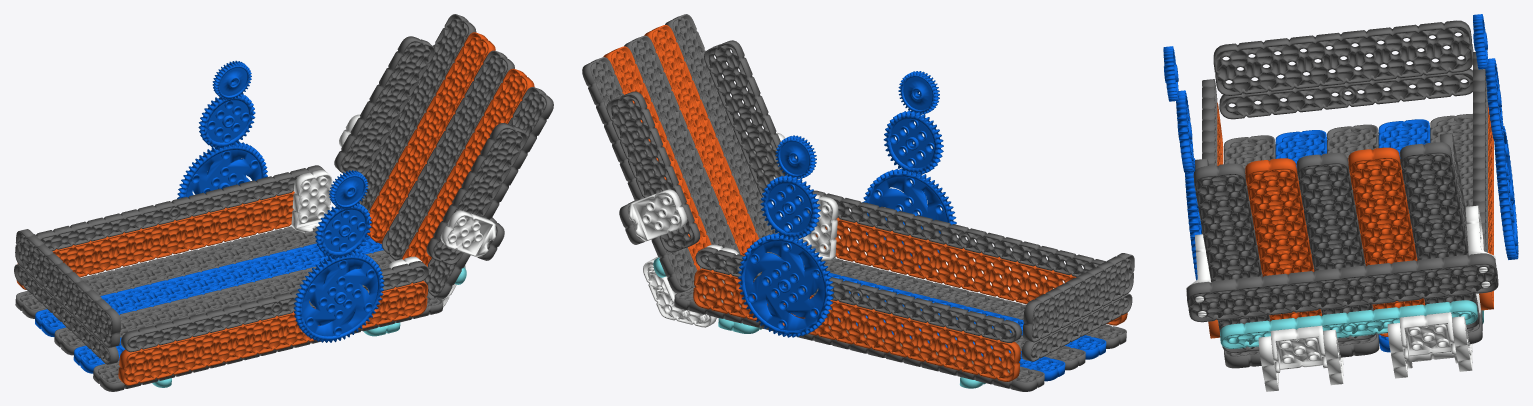
File: Tray V1.glb
3 views of the same model, side by side, from view 1: azimuth 30°, elevation 25°; view 2: azimuth 150°, elevation 25°; view 3: azimuth 270°, elevation 25° (orthographic). The views are drawn at different scales.
Parts seen in each view (by area): view 1: 00033_228-2500-029.dat, 00028_228-2500-029.dat, 00003_228-2500-026.dat, 00034_228-2500-215.dat, 00002_228-2500-026.dat, 00018_228-2500-030.dat, 00029_228-2500-015.dat, 00022_228-2500-030.dat, 00007_228-2500-023.dat, 00030_228-2500-015.dat, 00023_228-2500-030.dat, 00031_228-2500-025.dat (+14 smaller); view 2: 00028_228-2500-029.dat, 00033_228-2500-029.dat, 00037_228-2500-215.dat, 00030_228-2500-015.dat, 00004_228-2500-026.dat, 00008_228-2500-023.dat, 00029_228-2500-015.dat, 00003_228-2500-026.dat, 00007_228-2500-023.dat, 00031_228-2500-025.dat, 00005_228-2500-026.dat, 00025_228-2500-030.dat (+15 smaller); view 3: 00031_228-2500-025.dat, 00006_228-2500-026.dat, 00005_228-2500-026.dat, 00003_228-2500-026.dat, 00001_228-2500-026.dat, 00002_228-2500-026.dat, 00004_228-2500-026.dat, 00032_228-2500-009-v2.dat, 00011_228-2500-009-v2.dat, 00029_228-2500-015.dat, 00022_228-2500-030.dat, 00013_228-2500-220-v2.dat (+22 smaller).
Boxes of the visible parts, bbox=[...] form: 00033_228-2500-029.dat: bbox=[118, 280, 428, 385]; 00028_228-2500-029.dat: bbox=[16, 191, 294, 289]; 00003_228-2500-026.dat: bbox=[382, 50, 514, 260]; 00034_228-2500-215.dat: bbox=[293, 251, 384, 342]; 00002_228-2500-026.dat: bbox=[367, 32, 495, 243]; 00018_228-2500-030.dat: bbox=[35, 236, 383, 337]; 00029_228-2500-015.dat: bbox=[34, 165, 324, 250]; 00022_228-2500-030.dat: bbox=[15, 226, 318, 318]; 00007_228-2500-023.dat: bbox=[334, 36, 435, 175]; 00030_228-2500-015.dat: bbox=[120, 261, 429, 352]; 00023_228-2500-030.dat: bbox=[54, 250, 395, 355]; 00031_228-2500-025.dat: bbox=[15, 229, 120, 348]; 00028_228-2500-029.dat: bbox=[693, 268, 1020, 381]; 00033_228-2500-029.dat: bbox=[806, 217, 1127, 325]; 00037_228-2500-215.dat: bbox=[737, 233, 833, 337]; 00030_228-2500-015.dat: bbox=[812, 190, 1106, 276]; 00004_228-2500-026.dat: bbox=[644, 25, 758, 255]; 00008_228-2500-023.dat: bbox=[704, 40, 792, 197]; 00029_228-2500-015.dat: bbox=[695, 247, 1021, 342]; 00003_228-2500-026.dat: bbox=[624, 35, 740, 254]; 00007_228-2500-023.dat: bbox=[606, 91, 700, 252]; 00031_228-2500-025.dat: bbox=[1022, 253, 1134, 342]; 00005_228-2500-026.dat: bbox=[665, 14, 778, 238]; 00025_228-2500-030.dat: bbox=[767, 247, 1126, 348]; 00031_228-2500-025.dat: bbox=[1213, 20, 1473, 95]; 00006_228-2500-026.dat: bbox=[1186, 253, 1498, 322]; 00005_228-2500-026.dat: bbox=[1193, 163, 1270, 353]; 00003_228-2500-026.dat: bbox=[1296, 153, 1376, 342]; 00001_228-2500-026.dat: bbox=[1400, 142, 1479, 329]; 00002_228-2500-026.dat: bbox=[1348, 147, 1424, 336]; 00004_228-2500-026.dat: bbox=[1245, 158, 1321, 321]; 00032_228-2500-009-v2.dat: bbox=[1219, 69, 1472, 119]; 00011_228-2500-009-v2.dat: bbox=[1220, 300, 1477, 348]; 00029_228-2500-015.dat: bbox=[1473, 52, 1487, 252]; 00022_228-2500-030.dat: bbox=[1430, 114, 1482, 343]; 00013_228-2500-220-v2.dat: bbox=[1399, 312, 1468, 359].
Bounding box in the file's own units: 0.8616 × 0.4305 × 0.4574.
